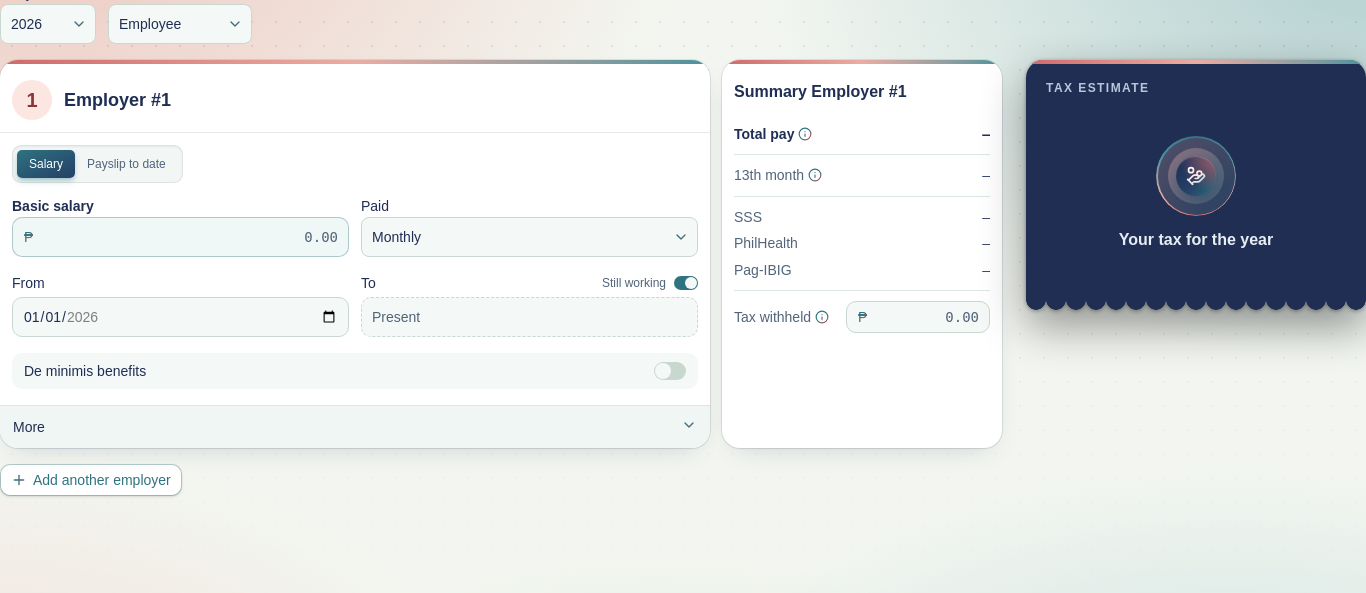
Test case: MyYear: mixed income › blanks every summary when one employer has a mistake, and says which
This screenshot has width=1366, height=593.
Click the dropdown named "I am": (180, 24) 108,4 -> 252,44
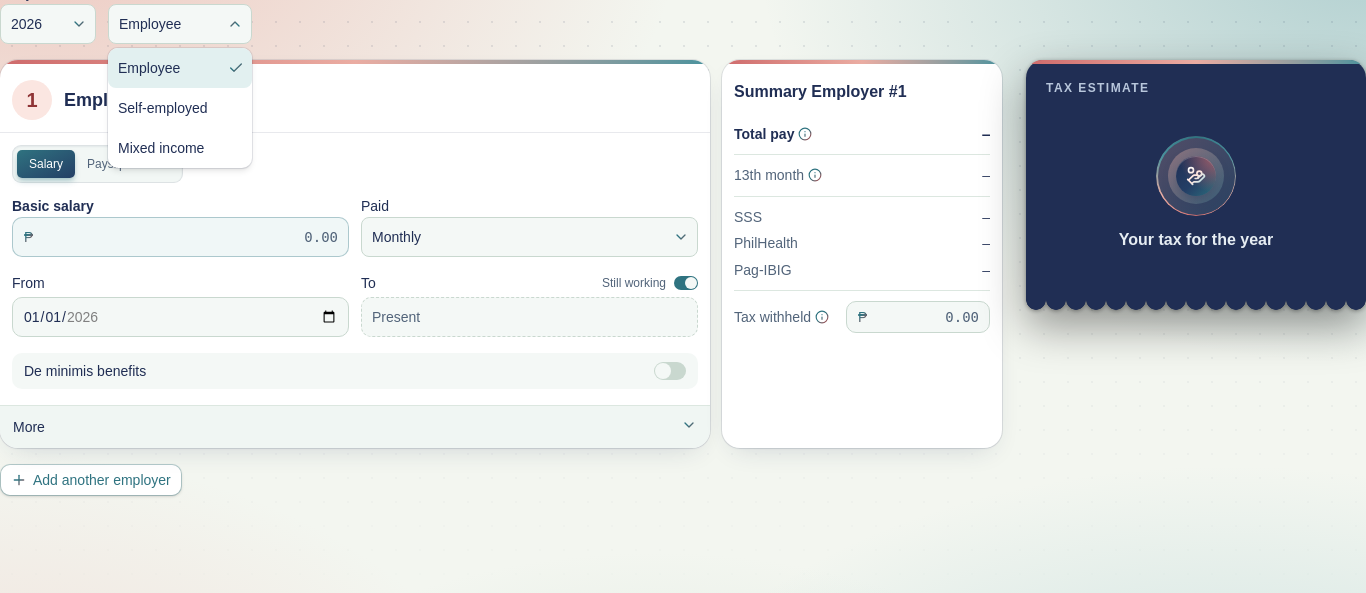
Click the option "Mixed income": (161, 148) 118,140 -> 204,156
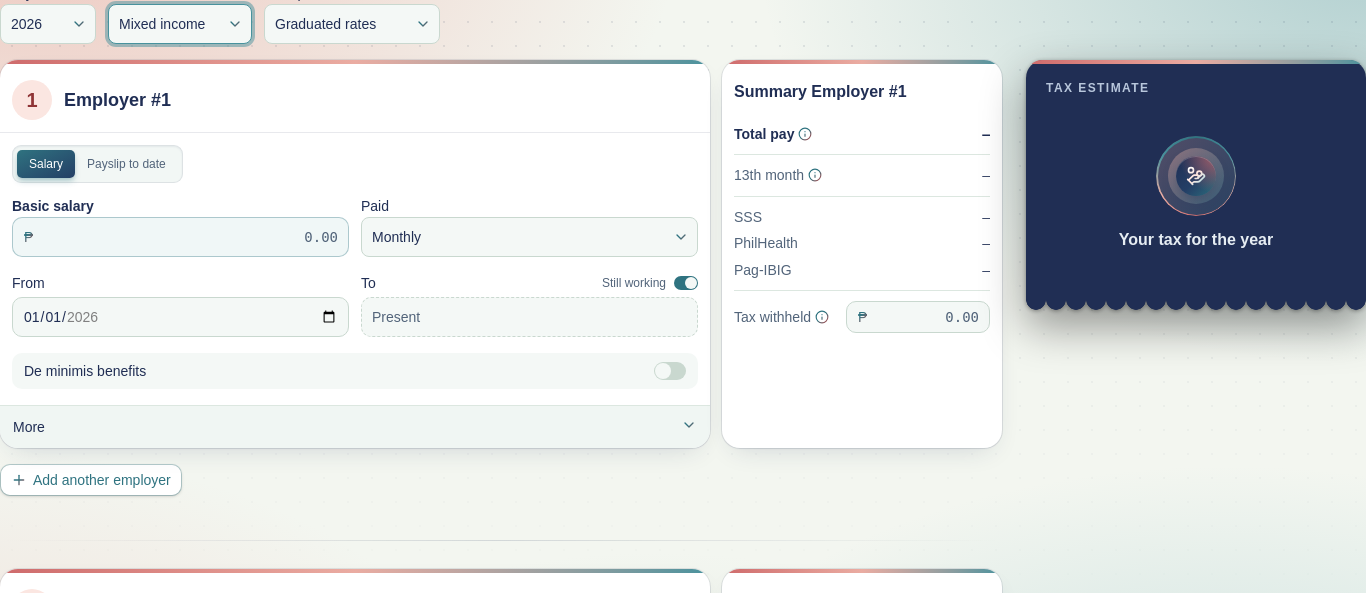
In the field labelled "Basic salary": (180, 237) 12,217 -> 349,257, type "50000"
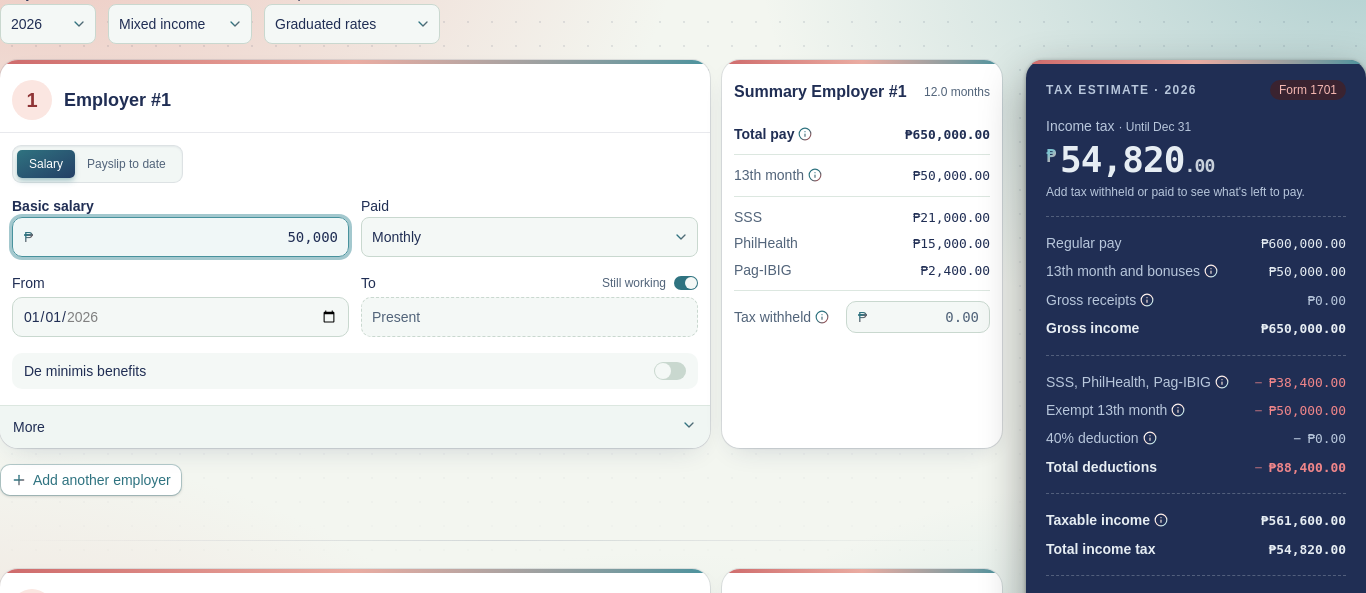
Click the button "Add another employer": (91, 480) 0,464 -> 182,496
(page scrolled)
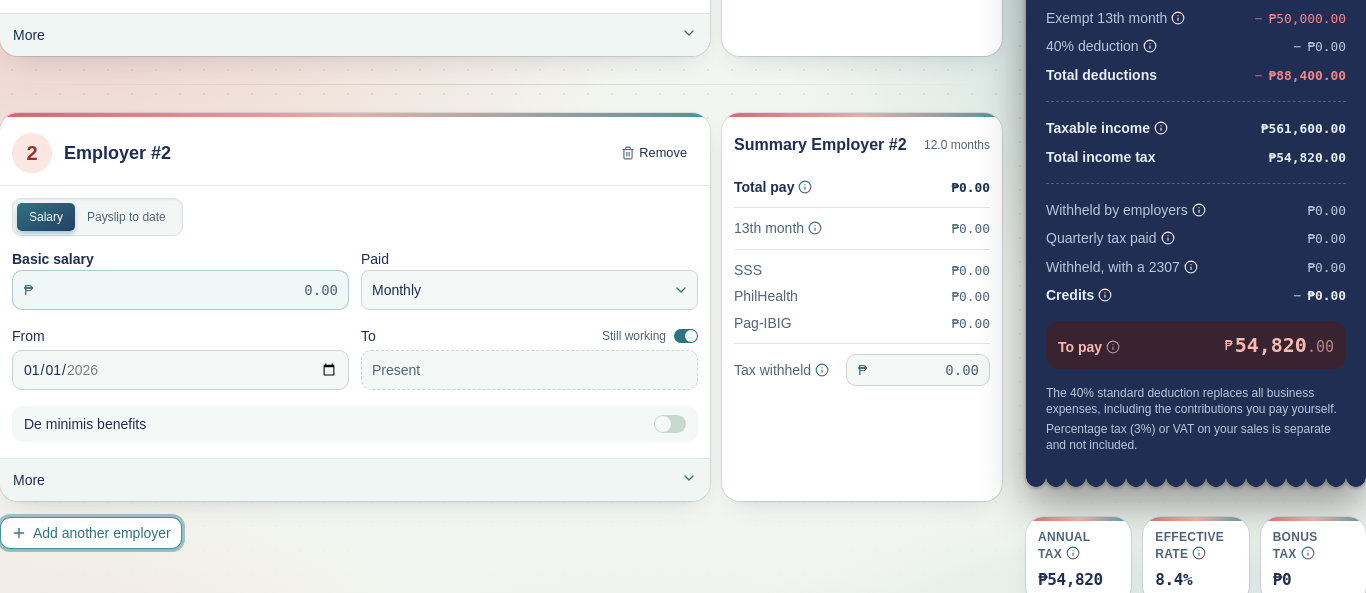
In the date field labelled "From": (180, 370) 12,350 -> 349,390, type "2026-09-01"
Click the 2nd switch named "Still working": (686, 336) 674,329 -> 698,343
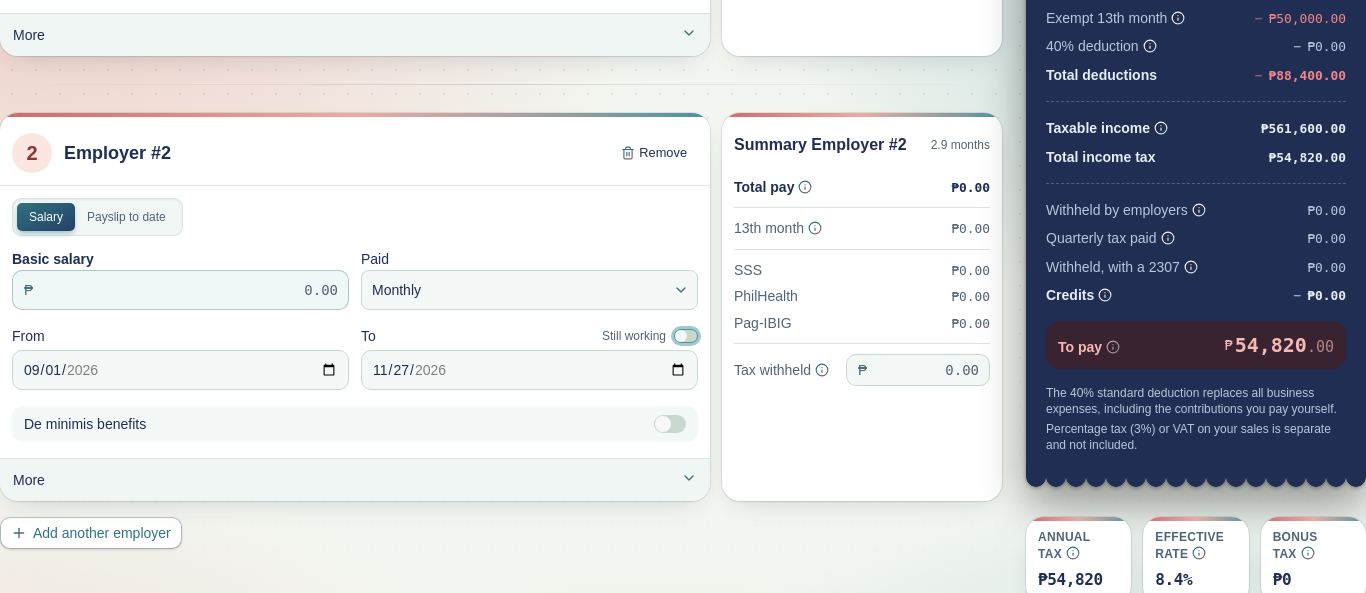
In the date field labelled "To": (530, 370) 361,350 -> 698,390, type "2026-03-31"
(page scrolled)
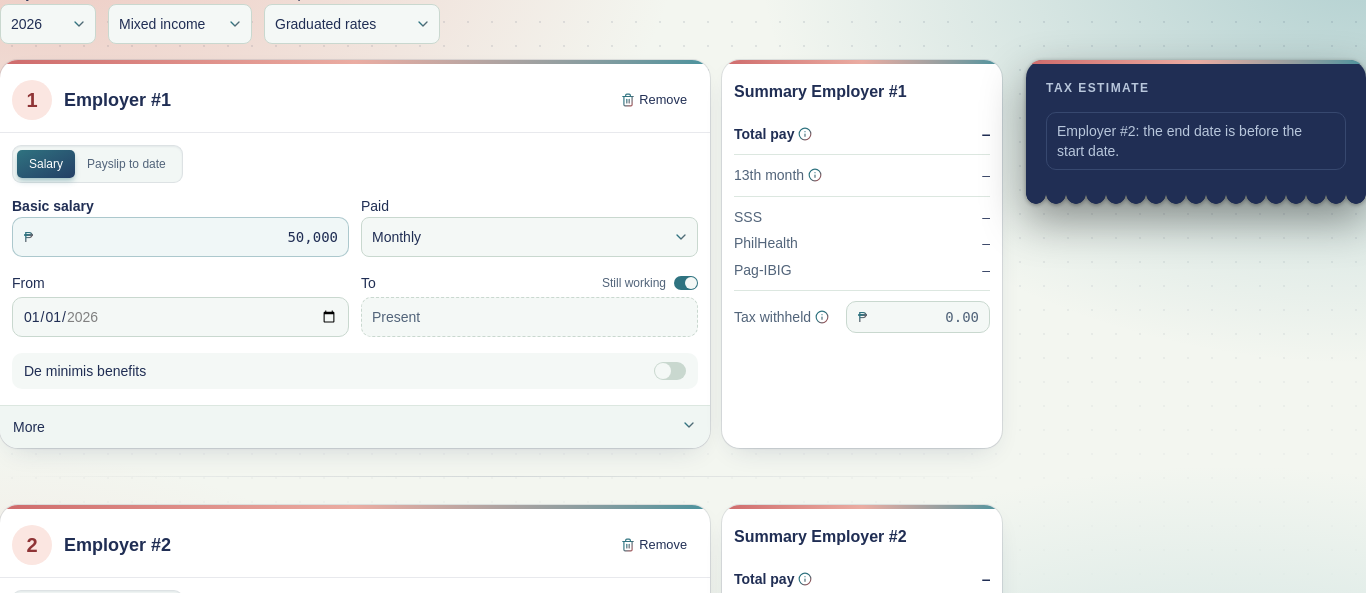
Expected: the message reads "Employer #2: the end date is before the start date.", 1057,123 -> 1302,159
